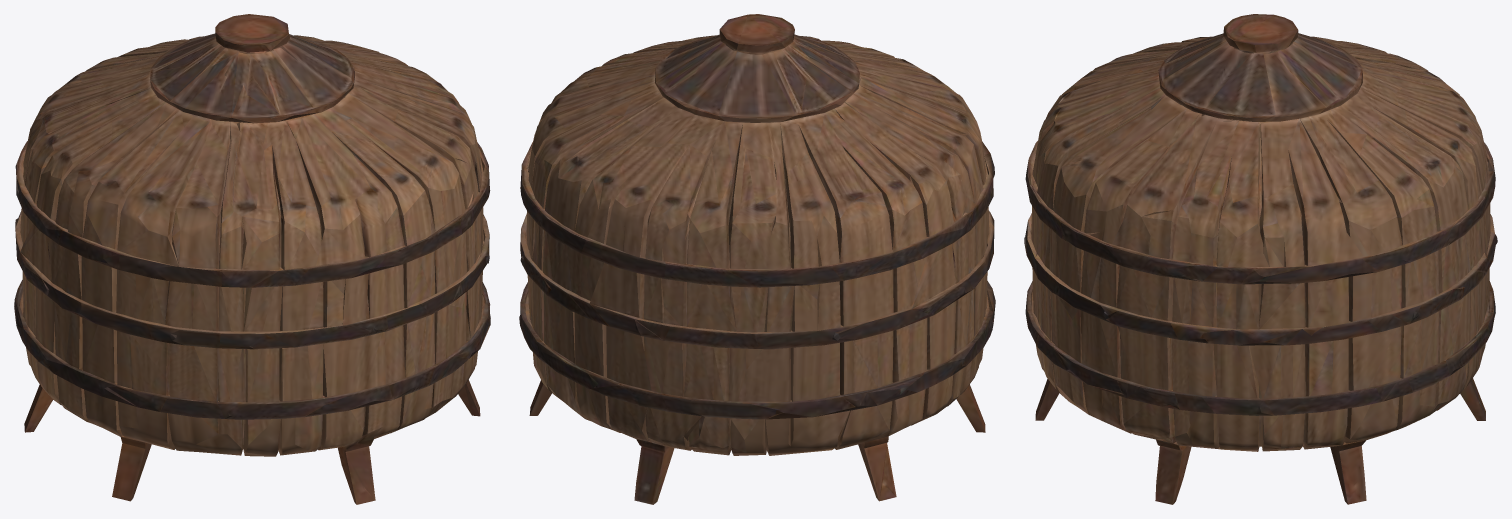
The model's file is watertank.glb.
3 views of the same model, side by side, from view 1: azimuth 30°, elevation 25°; view 2: azimuth 150°, elevation 25°; view 3: azimuth 270°, elevation 25° (orthographic).
Visible parts, largest first — view 1: output_unwrapped; view 2: output_unwrapped; view 3: output_unwrapped.
Part boxes in pixels (<box>): output_unwrapped: <box>14,14,490,504</box>; output_unwrapped: <box>519,14,995,504</box>; output_unwrapped: <box>1024,14,1497,504</box>.
Bounding box in the file's own units: 1.9 × 1.72 × 1.9.
1 material, 1 textured.
